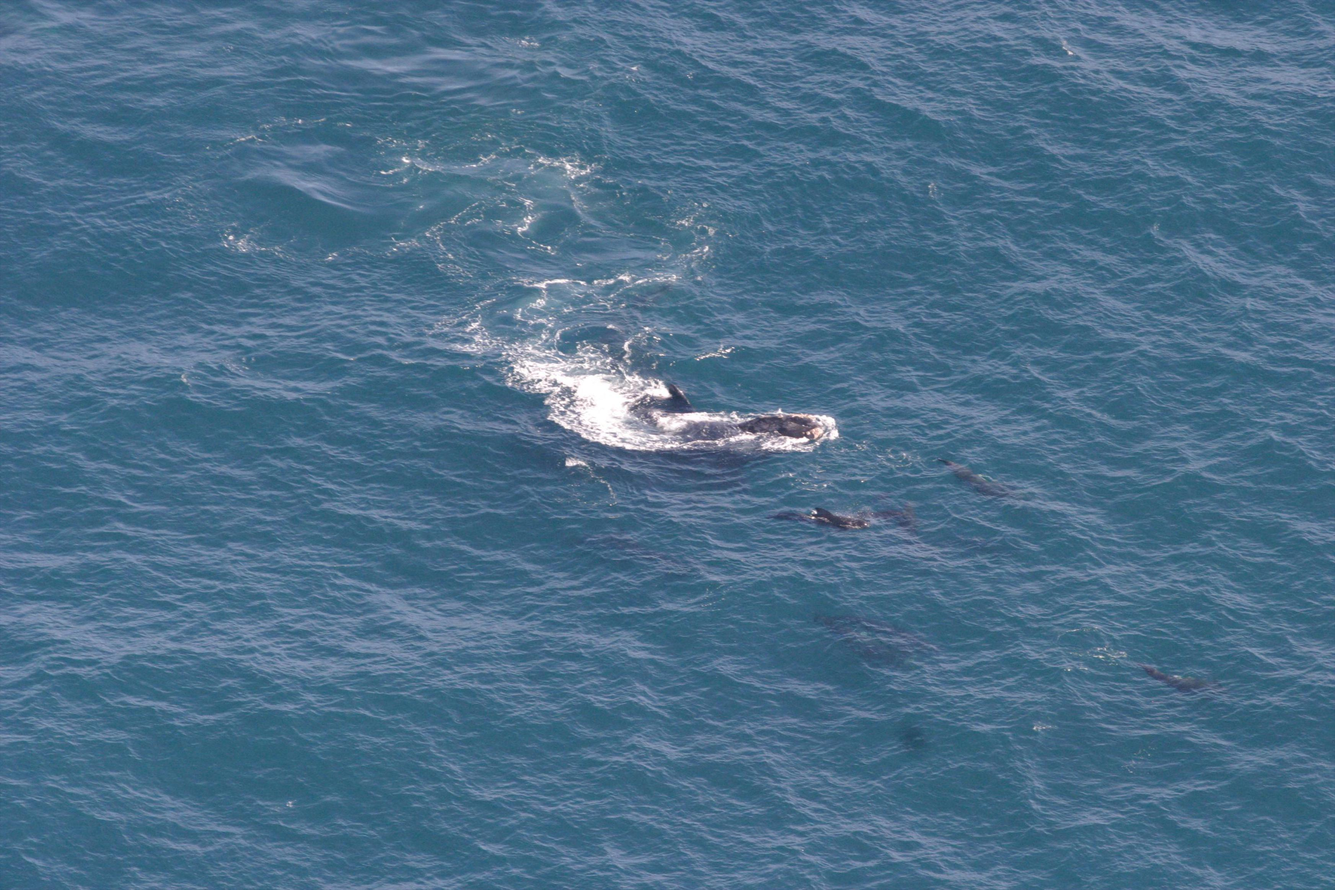whale: (514, 363, 853, 482)
